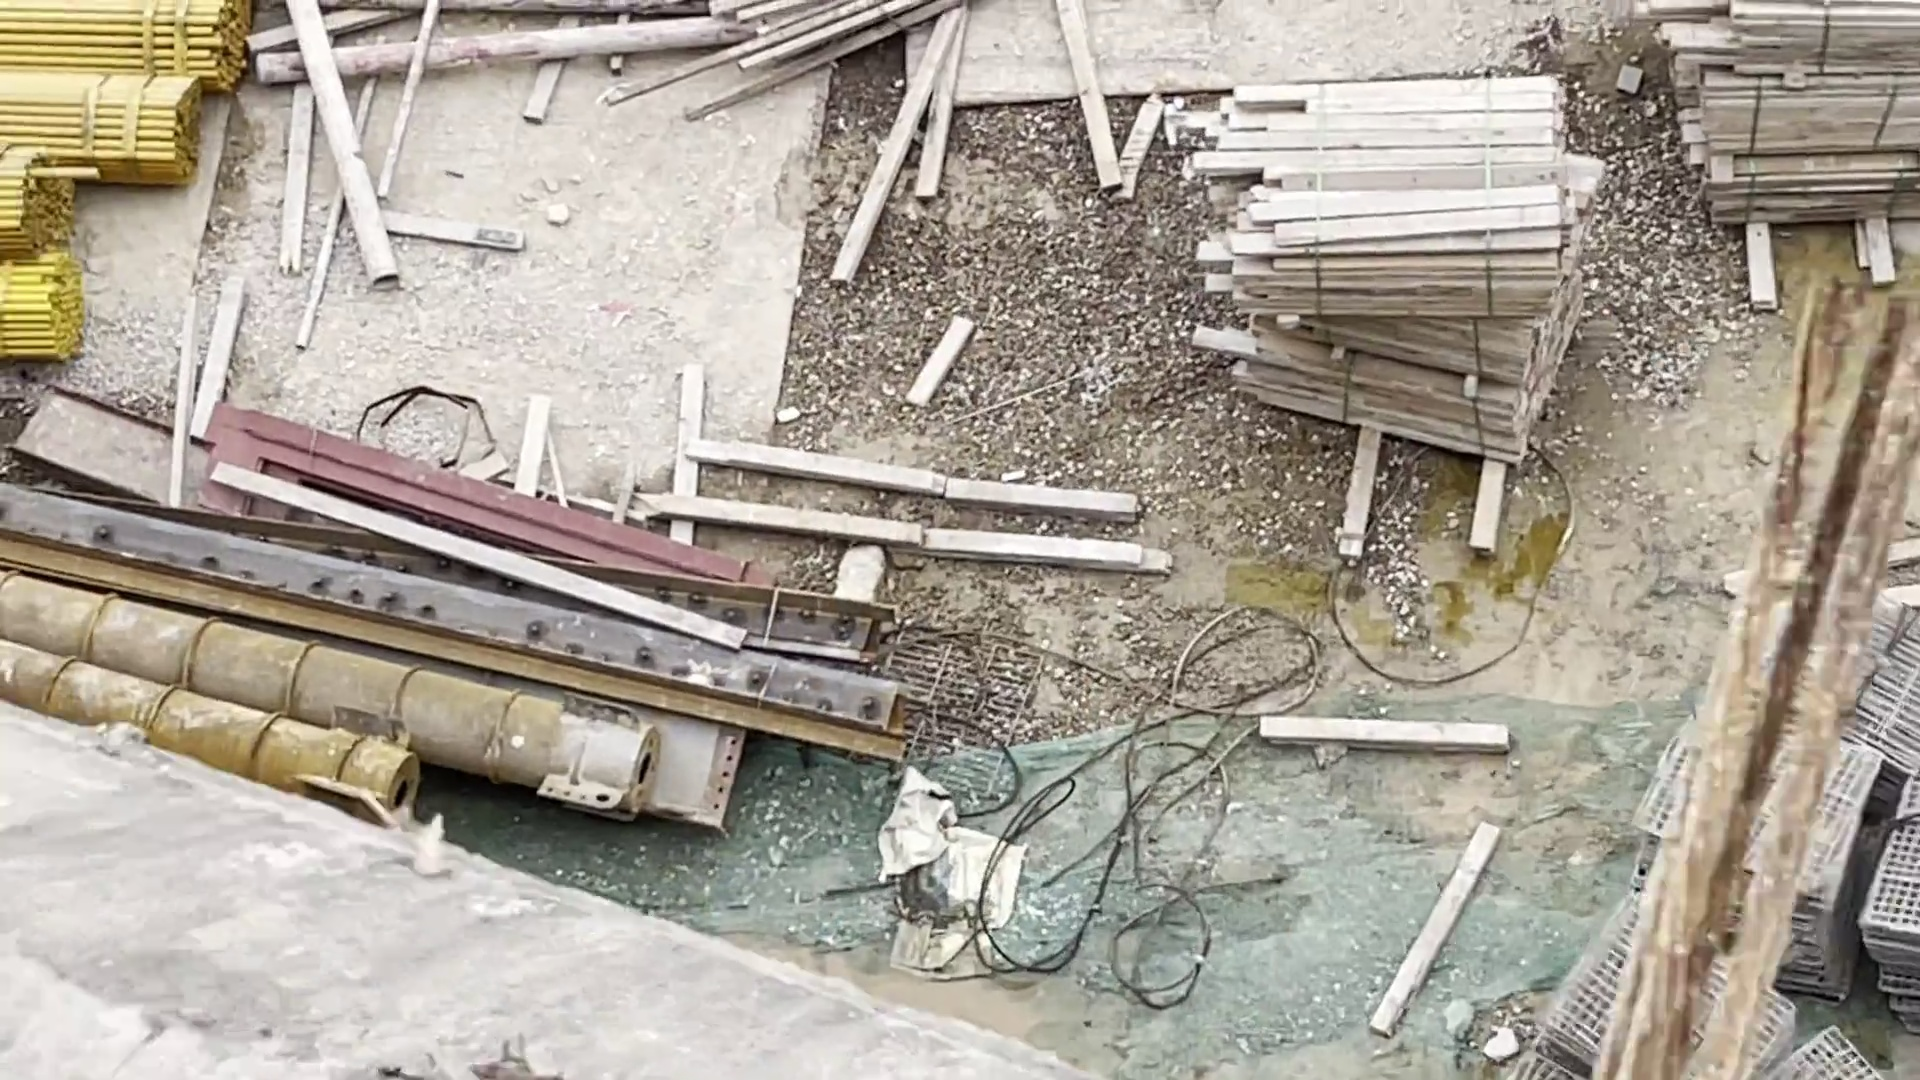wood: (1205, 75, 1538, 447), (1665, 4, 1904, 231)
